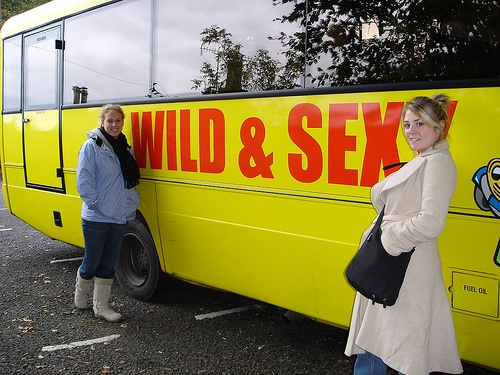head: (401, 95, 446, 155), (99, 105, 125, 138)
person: (351, 94, 462, 372), (73, 100, 140, 323)
